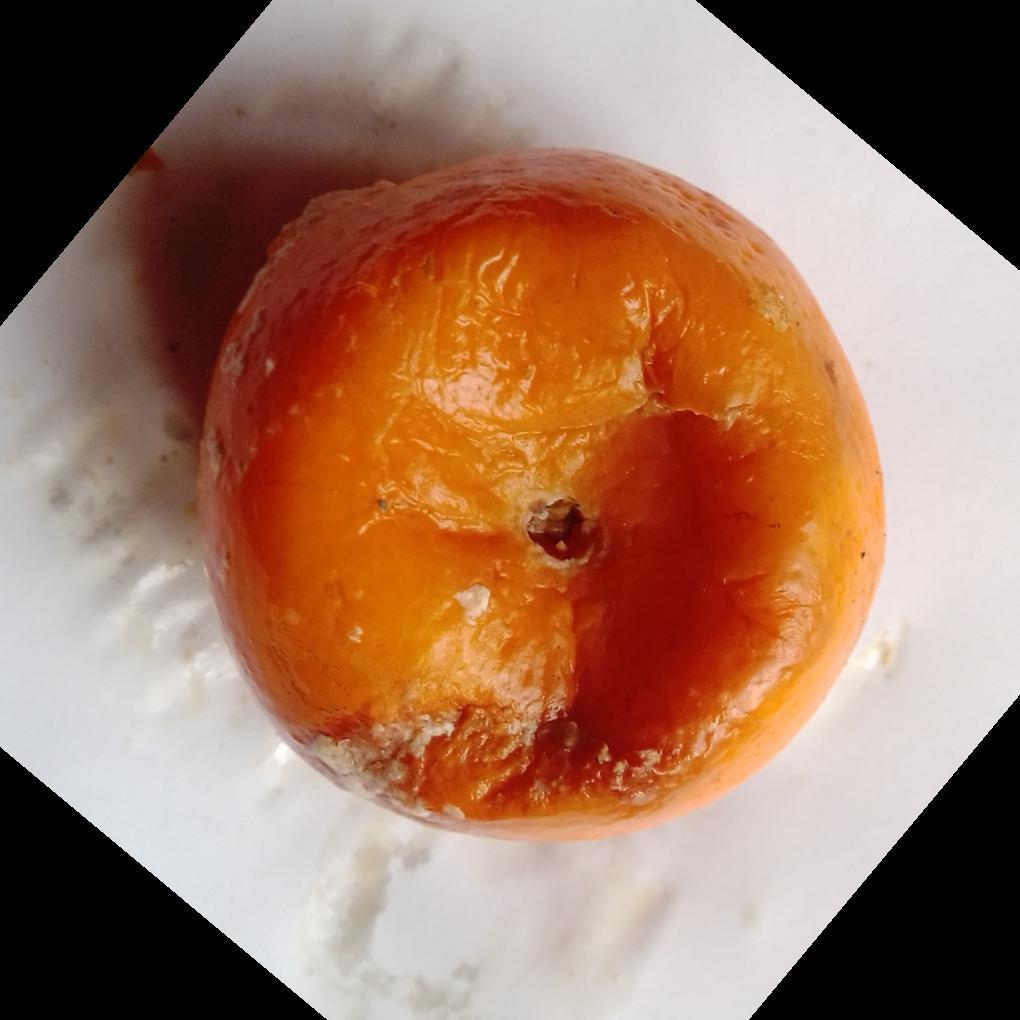FreshOrange: (193, 149, 887, 844)
